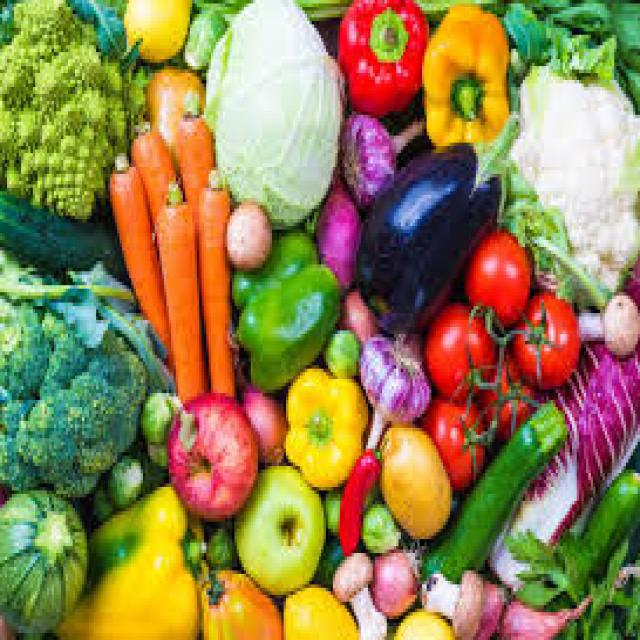organic waste: (480, 250, 638, 595), (354, 108, 520, 334), (0, 243, 145, 497), (495, 70, 635, 306), (202, 0, 342, 226), (0, 0, 141, 219), (418, 396, 568, 584), (47, 480, 206, 637), (105, 146, 173, 369), (499, 0, 637, 104), (506, 528, 638, 636), (420, 0, 511, 146), (0, 484, 87, 636), (235, 261, 338, 386), (232, 463, 324, 591), (164, 393, 256, 518), (0, 184, 124, 275), (155, 178, 206, 396), (281, 362, 366, 490), (499, 560, 638, 637), (335, 0, 426, 111), (225, 320, 286, 463), (359, 324, 429, 448), (338, 104, 422, 206), (378, 421, 450, 539), (197, 164, 234, 393), (570, 466, 638, 588), (230, 208, 316, 302), (511, 285, 577, 386), (422, 299, 492, 393), (176, 84, 213, 258), (422, 390, 483, 490), (312, 164, 358, 296), (197, 564, 281, 636), (464, 226, 528, 320), (338, 435, 387, 556), (141, 63, 206, 153), (129, 111, 178, 230), (30, 278, 106, 348), (321, 487, 399, 550), (418, 560, 478, 637), (330, 553, 384, 637), (281, 578, 359, 636), (483, 348, 532, 435), (122, 0, 194, 59), (576, 288, 638, 354), (2, 274, 132, 302), (370, 546, 418, 612), (222, 198, 270, 264), (298, 0, 518, 14), (146, 393, 186, 463), (340, 282, 375, 341), (105, 449, 143, 501), (392, 602, 450, 636), (312, 532, 342, 591), (138, 386, 171, 438), (478, 578, 506, 636), (324, 327, 356, 376), (204, 525, 230, 560), (89, 480, 113, 515)
